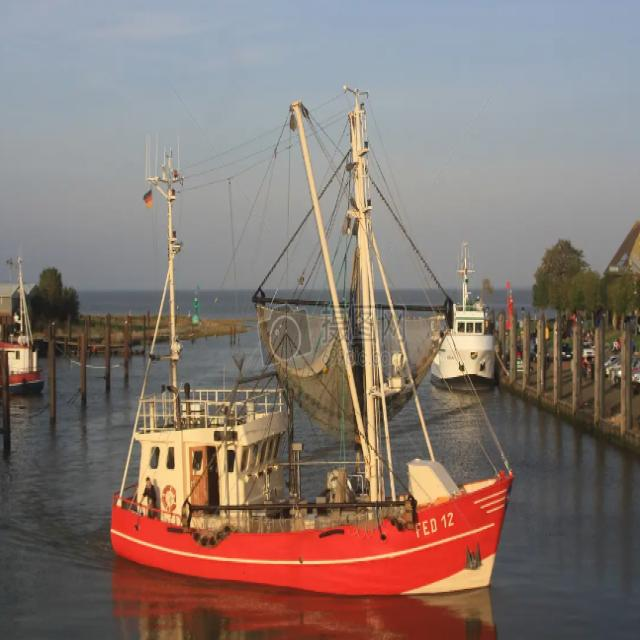fishing boat: (108, 109, 512, 594), (424, 234, 497, 390)
